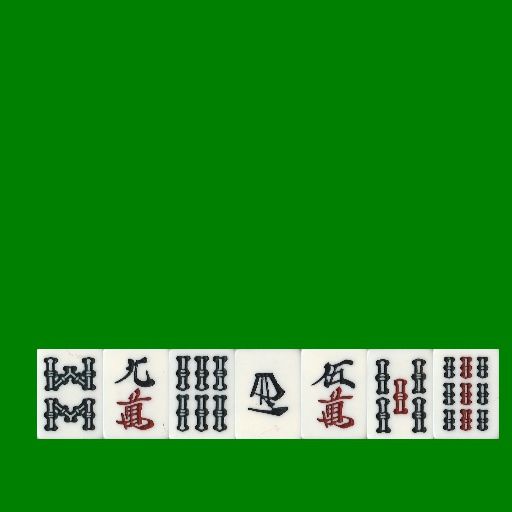5m: (301, 349, 367, 439)
5s: (367, 349, 433, 439)
6s: (169, 349, 235, 439)
8s: (37, 349, 103, 439)
9m: (103, 349, 169, 439)
9s: (433, 349, 499, 439)
west: (235, 349, 301, 439)
